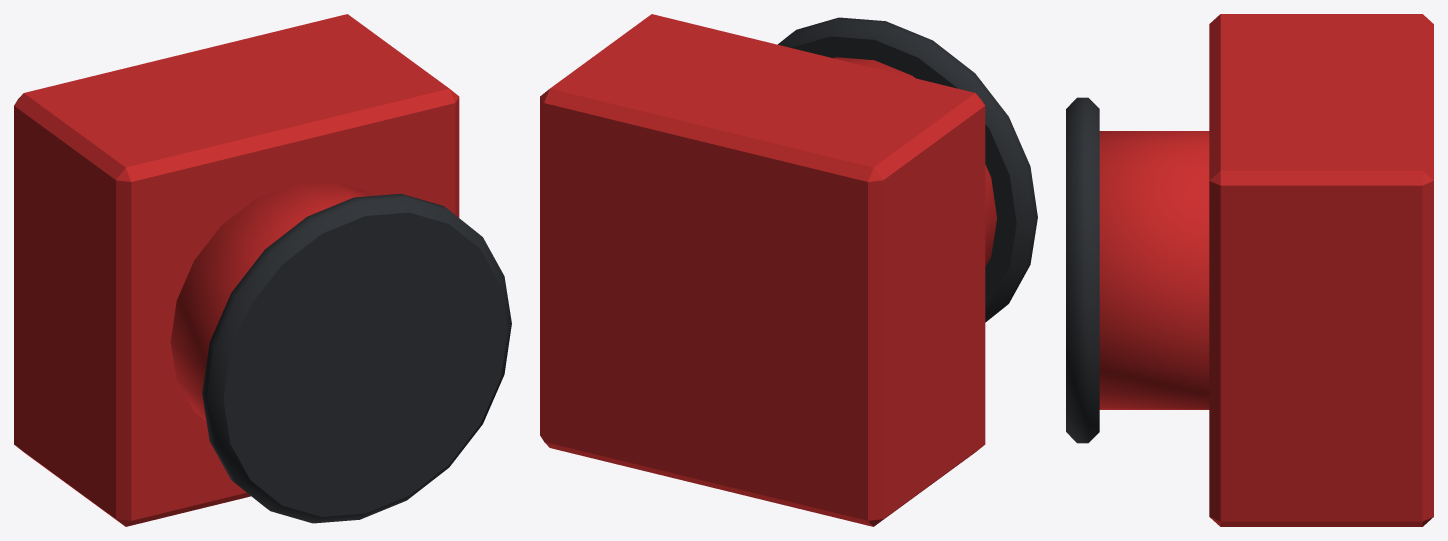
The model's file is alarm_siren.glb.
3 renders of one model, left to right at view 1: azimuth 30°, elevation 25°; view 2: azimuth 150°, elevation 25°; view 3: azimuth 270°, elevation 25°, orthographic.
Visible parts, largest first — view 1: Siren; view 2: Siren; view 3: Siren.
Part boxes in pixels (box(x1,y1,x2,y2)): Siren: box(14, 14, 511, 526); Siren: box(540, 14, 1037, 526); Siren: box(1066, 14, 1433, 526).
Size of the model in its own units: 0.14 by 0.14 by 0.131.
